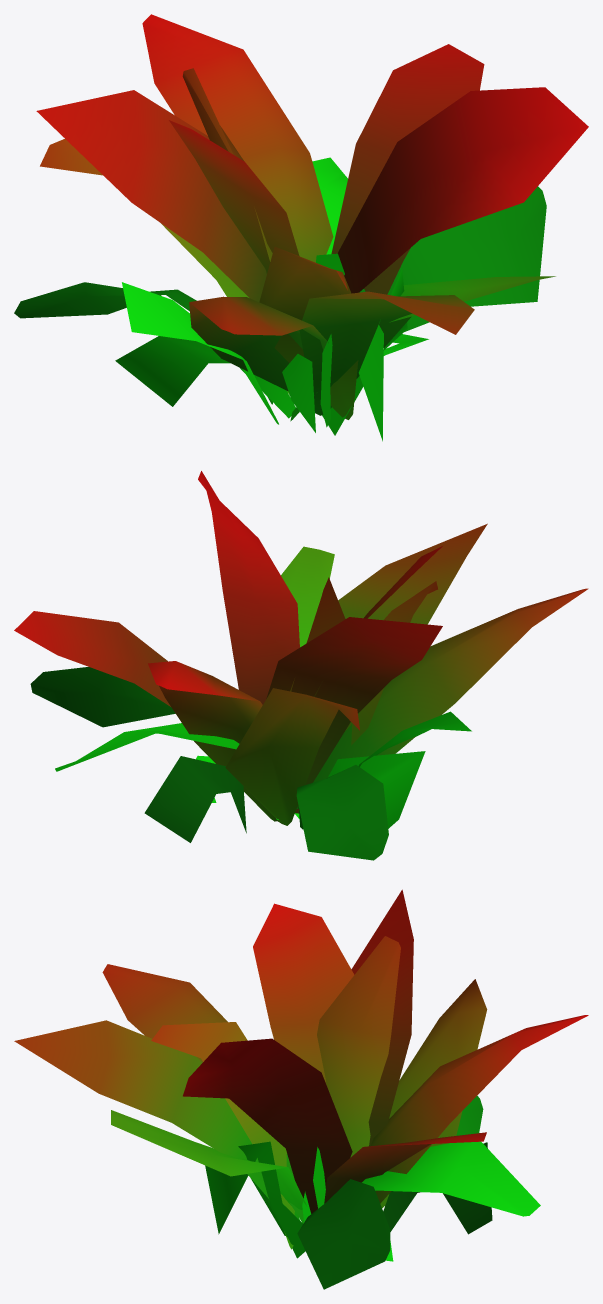
The model's file is Fern_LOD2_Var1_rmAsg.fbx.
3 renders of one model, top to bottom at view 1: azimuth 30°, elevation 25°; view 2: azimuth 150°, elevation 25°; view 3: azimuth 270°, elevation 25°, orthographic. The views are drawn at different scales.
Parts seen in each view (by area): view 1: _ec2e_Var1_LOD2; view 2: _ec2e_Var1_LOD2; view 3: _ec2e_Var1_LOD2.
Part boxes in pixels (<box>): _ec2e_Var1_LOD2: <box>14,14,588,441</box>; _ec2e_Var1_LOD2: <box>14,471,588,860</box>; _ec2e_Var1_LOD2: <box>14,889,588,1289</box>.
Size of the model in its own units: 155 by 105 by 188.
